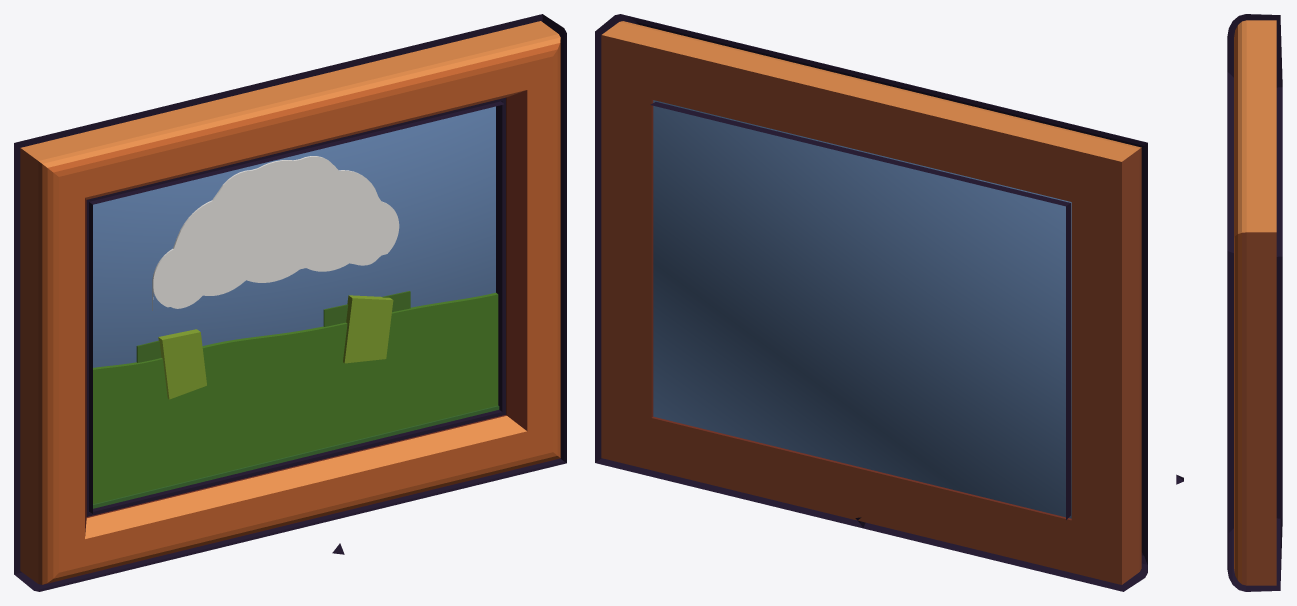
Rendered from Picture.glb.
3 views of the same model, side by side, from view 1: azimuth 30°, elevation 25°; view 2: azimuth 150°, elevation 25°; view 3: azimuth 270°, elevation 25° (orthographic). The views are drawn at different scales.
Visible parts, largest first — view 1: Picture, Picture_Outline; view 2: Picture, Picture_Outline; view 3: Picture, Picture_Outline.
Part boxes in pixels (x1=…): Picture: x1=20, y1=21, x2=560, y2=584; Picture_Outline: x1=14, y1=14, x2=566, y2=591; Picture: x1=601, y1=21, x2=1141, y2=584; Picture_Outline: x1=595, y1=14, x2=1147, y2=591; Picture: x1=1234, y1=20, x2=1276, y2=585; Picture_Outline: x1=1227, y1=14, x2=1282, y2=591.
Bounding box in the file's own units: 5.3 × 4.14 × 1.1.
1 material, 1 textured.
